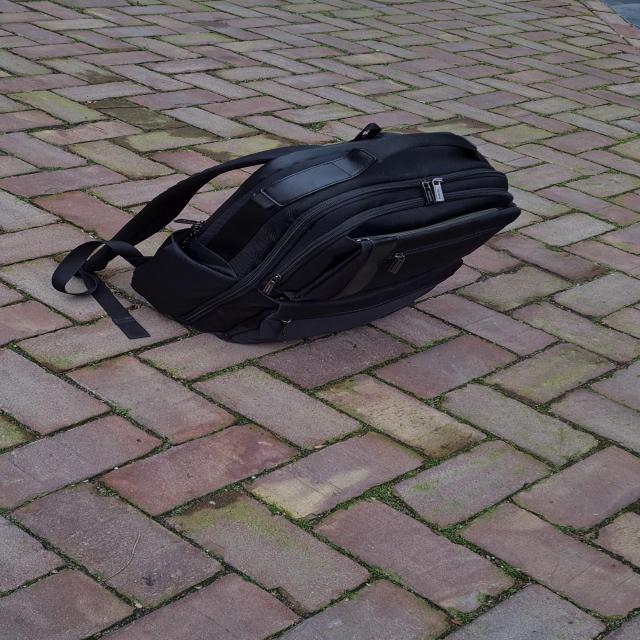backpack: (122, 121, 523, 356)
